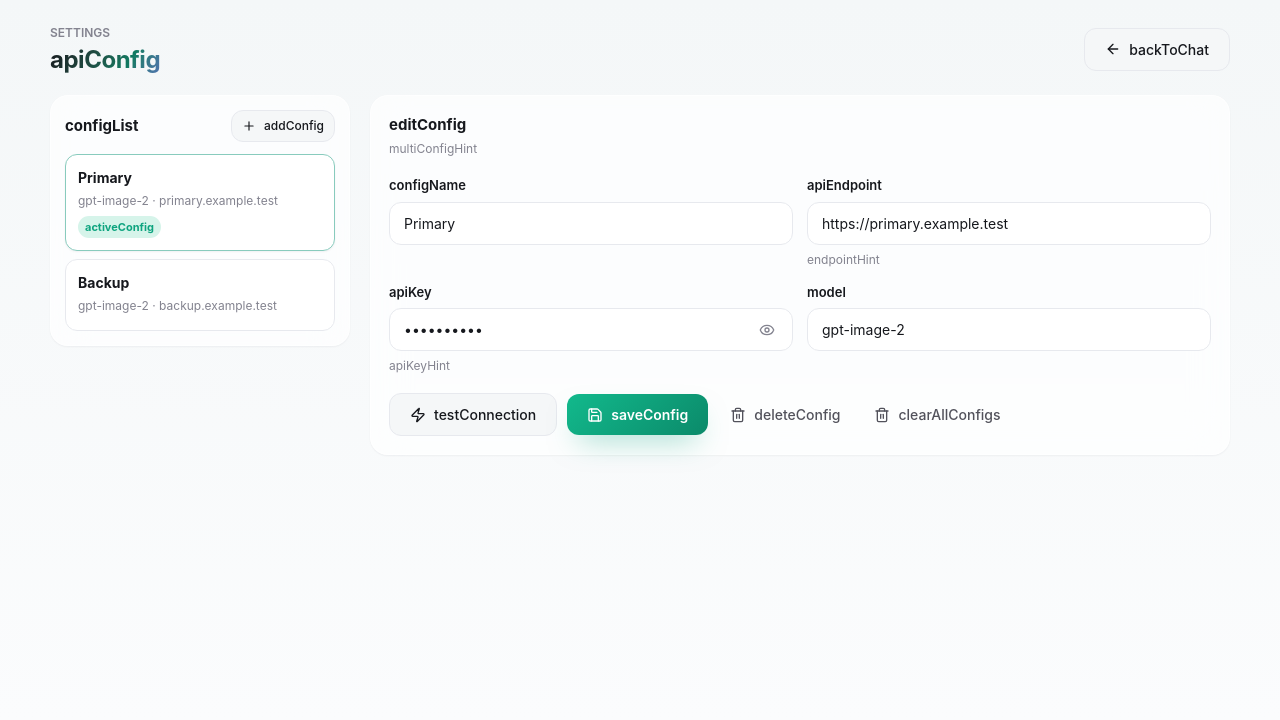
Test: SettingsPage › blocks switching configs while the current form is dirty
Replace the text in the field labelled "apiEndpoint" with "https://edited.example.test". click: (1009, 223)
box: [807,202,1211,245]
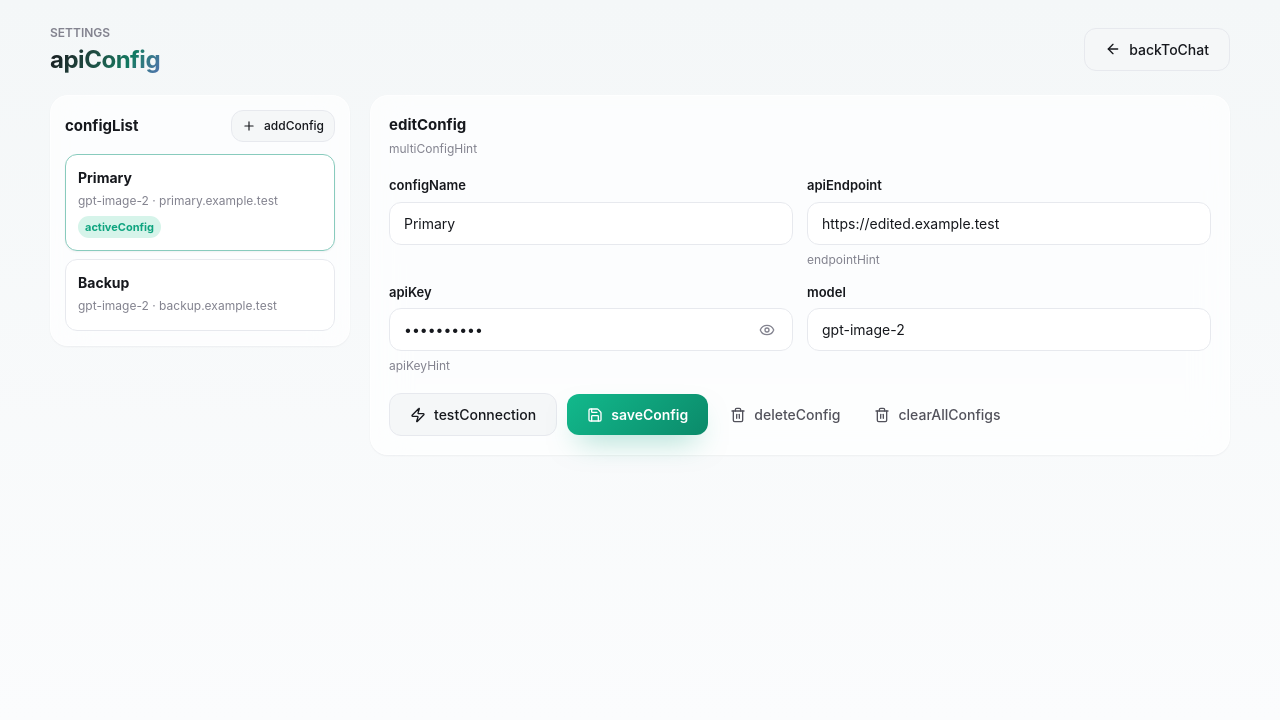
Click the button "Backup gpt-image-2 · backup.example.test". click: (200, 295)
box: [65,259,335,331]
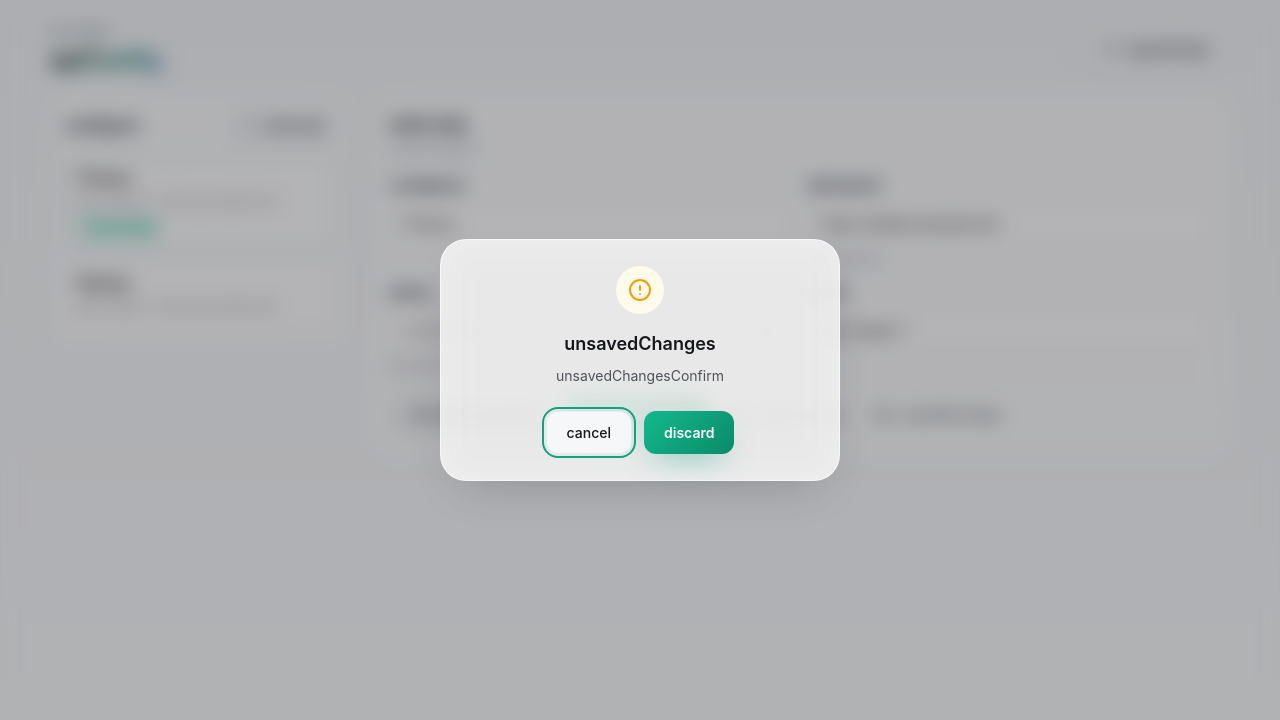
Expected: the text "unsavedChanges" is shown, [564,333,716,354]
Click the button "discard". click: (689, 433)
box: [644,411,734,454]
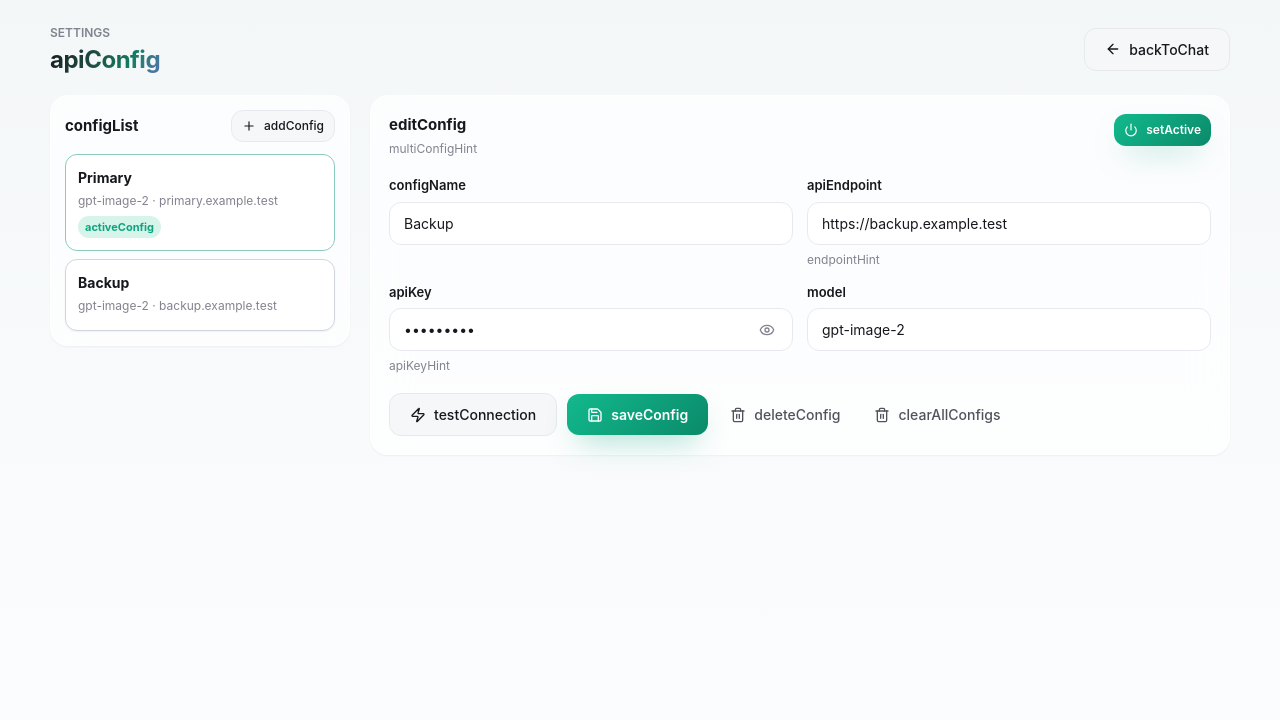
Expected: the text "unsavedChanges" is gone
Expected: the field labelled "apiEndpoint" holds "https://backup.example.test", [807,202,1211,245]
